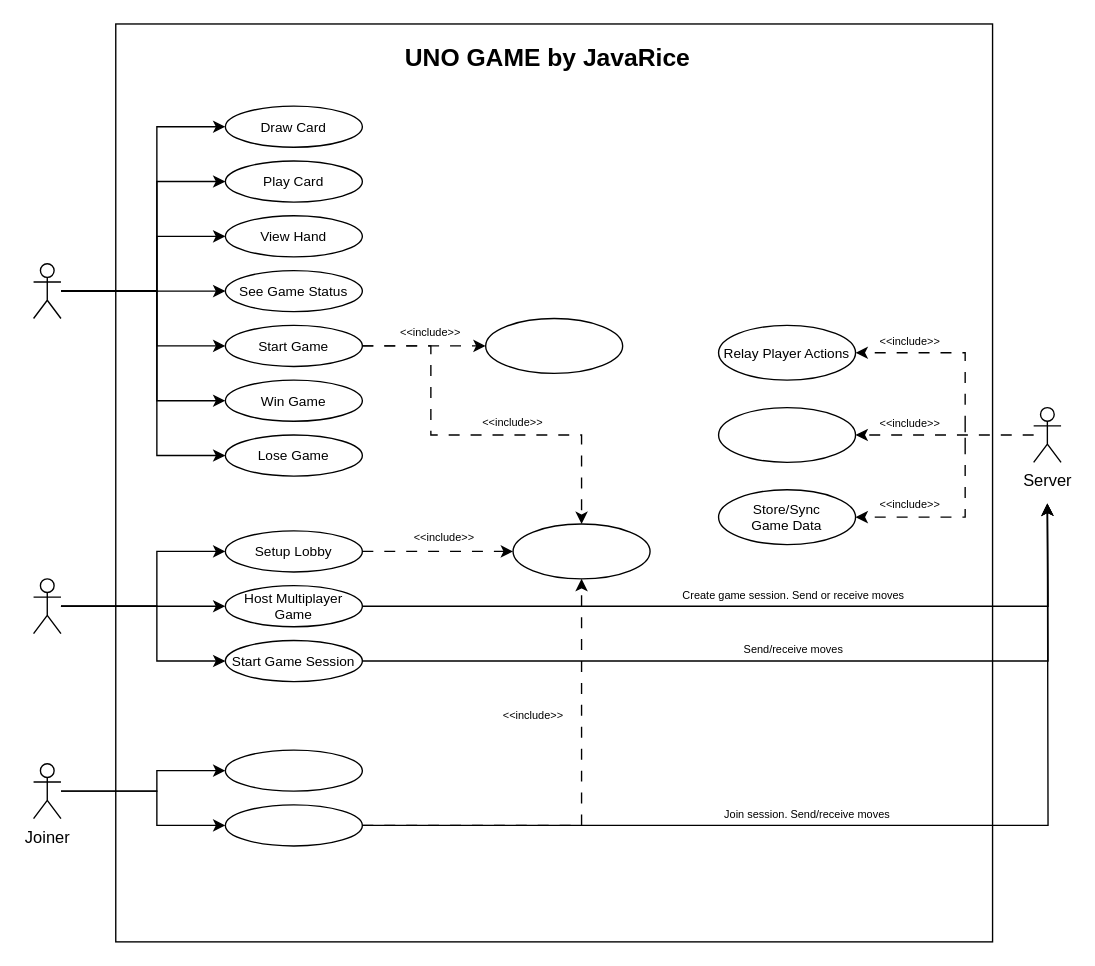
The diagram is 1095 pixels wide and 966 high, and some of its shapes have lost their labels. Here are the shapes that lost their labels. From the top down, the centre of each, then its label:
(46,290): Player
(553,345): Singleplayer Mode
(786,434): Synchronized Game State
(581,551): Multiplayer Mode
(46,605): Host
(293,770): Enter Lobby Code
(293,825): Join Multiplayer Game
